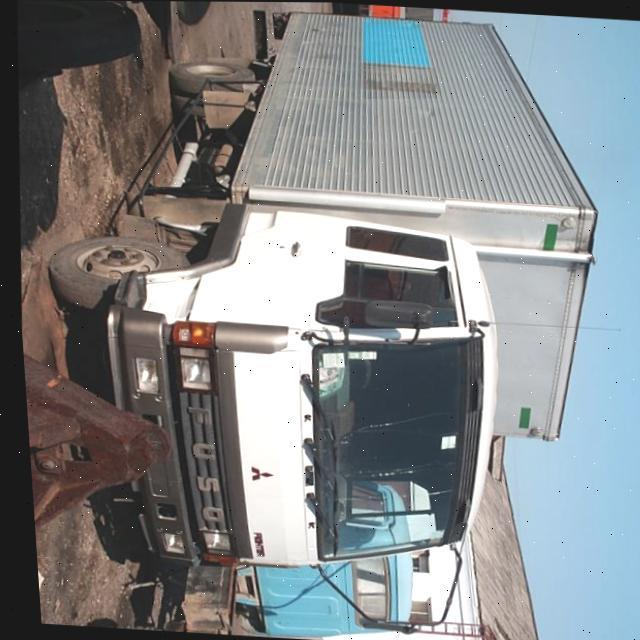truck: (7, 0, 625, 640)
